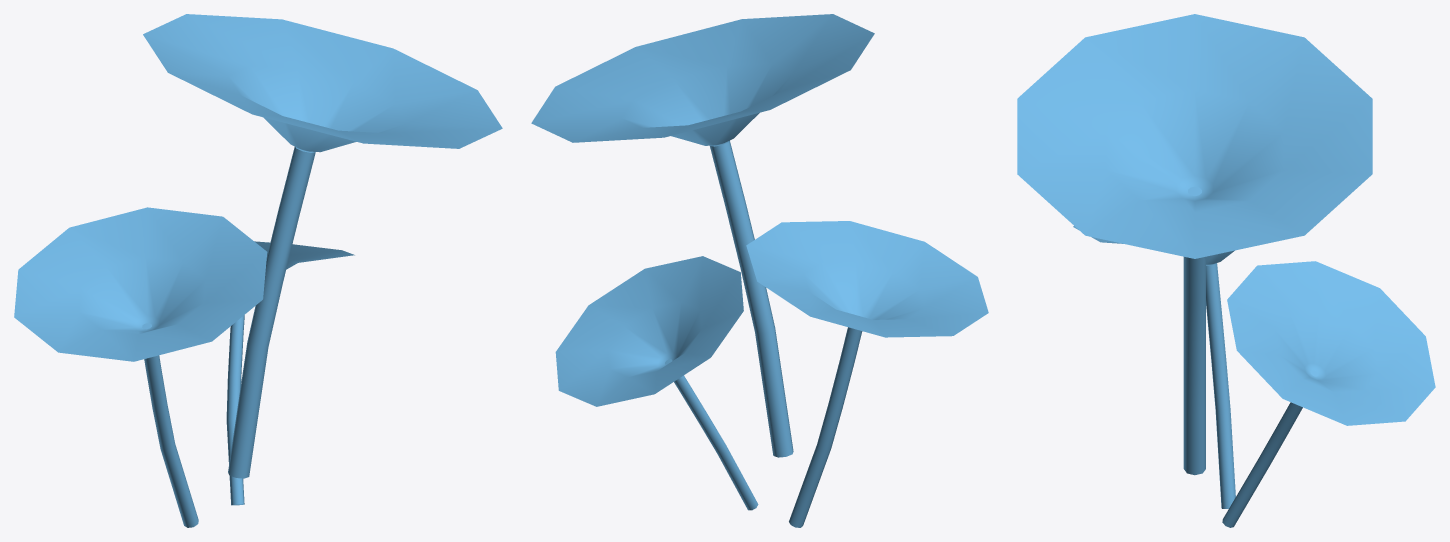
The model's file is Mushroom.fbx.
3 views of the same model, side by side, from view 1: azimuth 30°, elevation 25°; view 2: azimuth 150°, elevation 25°; view 3: azimuth 270°, elevation 25° (orthographic). The views are drawn at different scales.
Visible parts, largest first — view 1: Sea_Mushroom; view 2: Sea_Mushroom; view 3: Sea_Mushroom.
Boxes of the visible parts, left/top/right/bottom form: Sea_Mushroom: left=14, top=14, right=502, bottom=527; Sea_Mushroom: left=531, top=14, right=988, bottom=527; Sea_Mushroom: left=1017, top=14, right=1435, bottom=527.
Size of the model in its own units: 1679 by 1730 by 1377.
